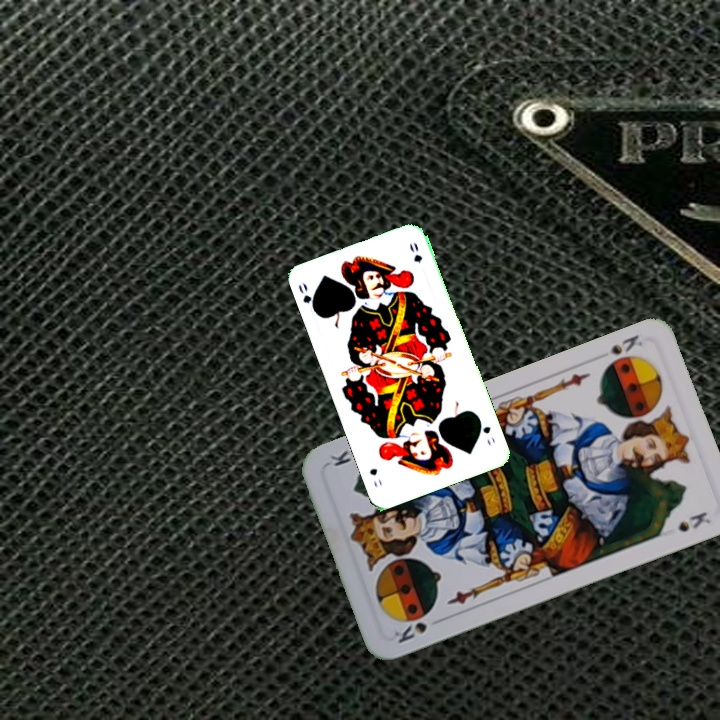GO: (294, 278, 320, 317), (475, 414, 498, 449)
SK: (388, 609, 433, 646), (605, 330, 645, 357)
